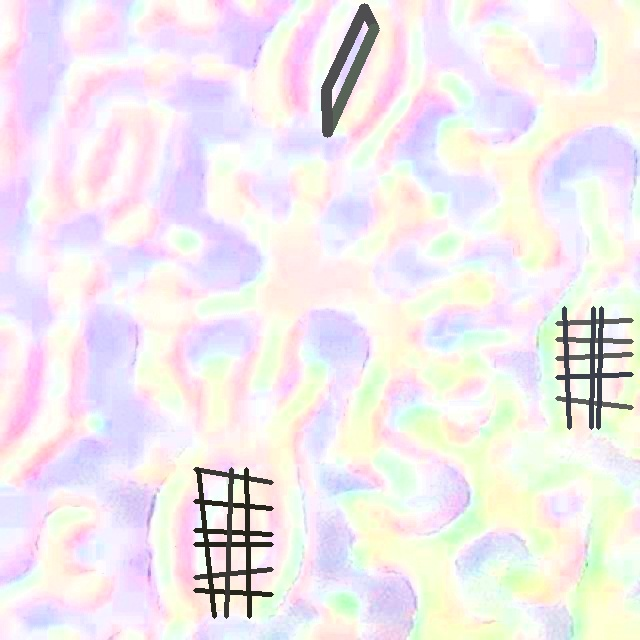close: (193, 467, 273, 618)
open: (555, 306, 633, 429), (321, 3, 378, 136)
